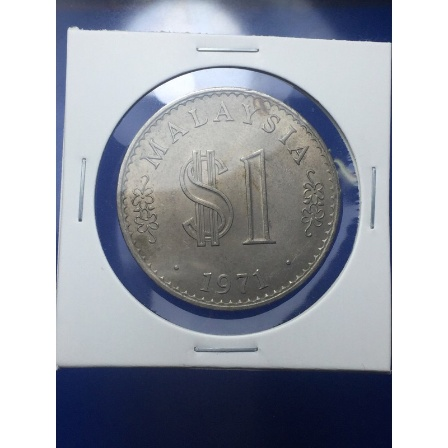1r: (115, 86, 342, 312)
